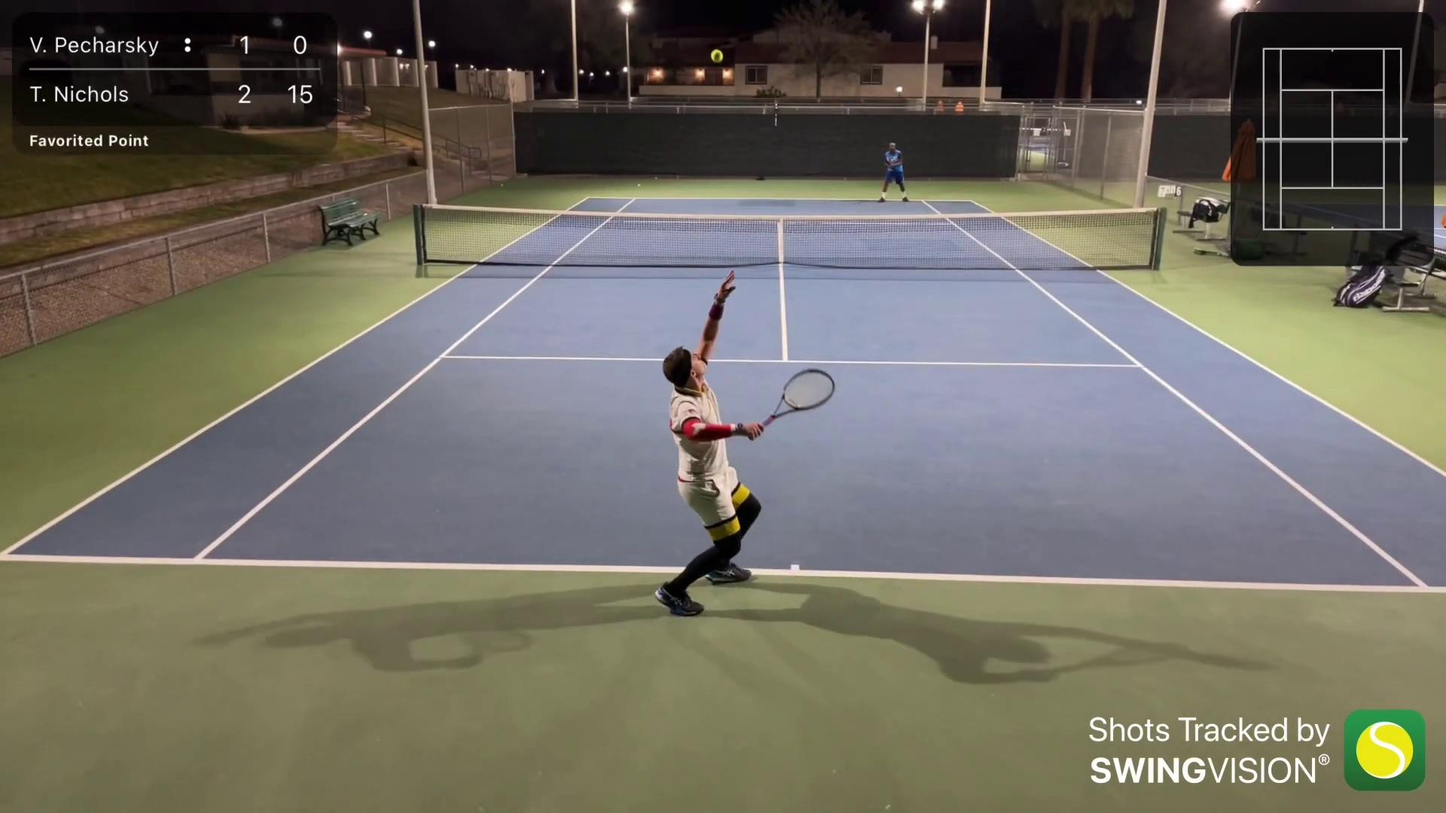ball: (711, 48, 724, 63), (1152, 107, 1158, 114)
